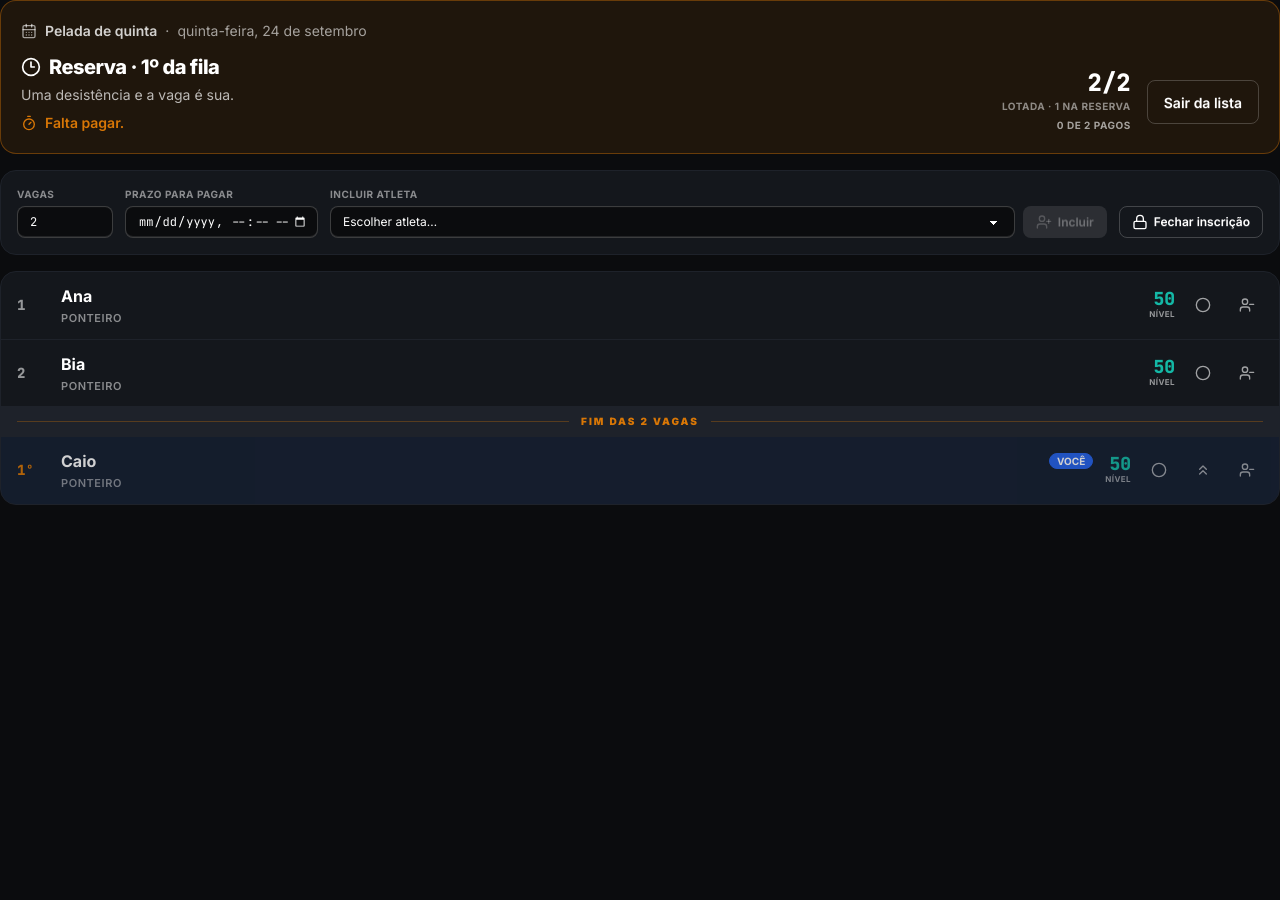
Scenario: RegistrationBoardView › desistir do fechamento não mexe na lista
The image size is (1280, 900).
Click the button "Fechar inscrição": coordinates (1191, 222) [1119,206,1263,238]
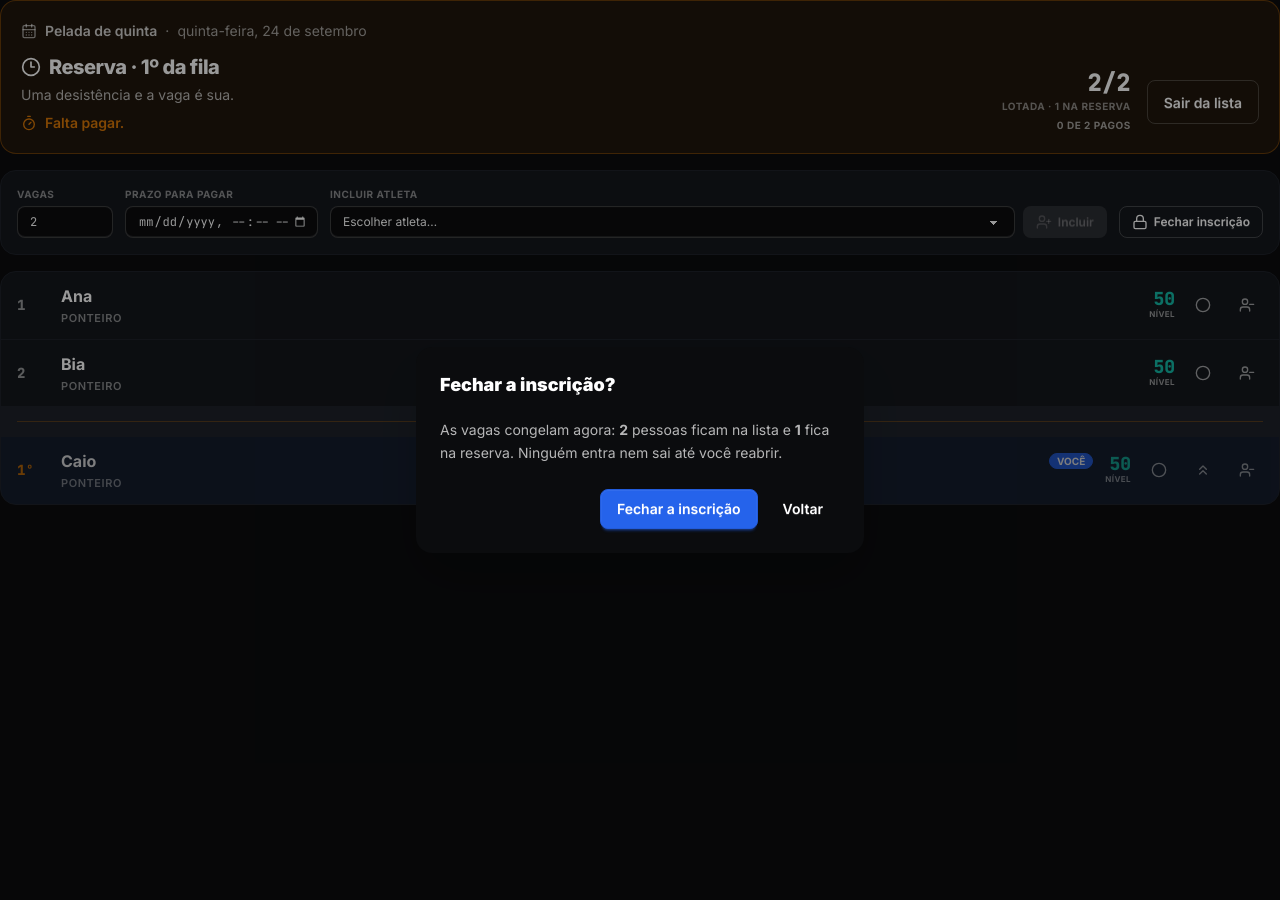
Click the button "Voltar": coordinates (803, 509) [766,489,840,529]
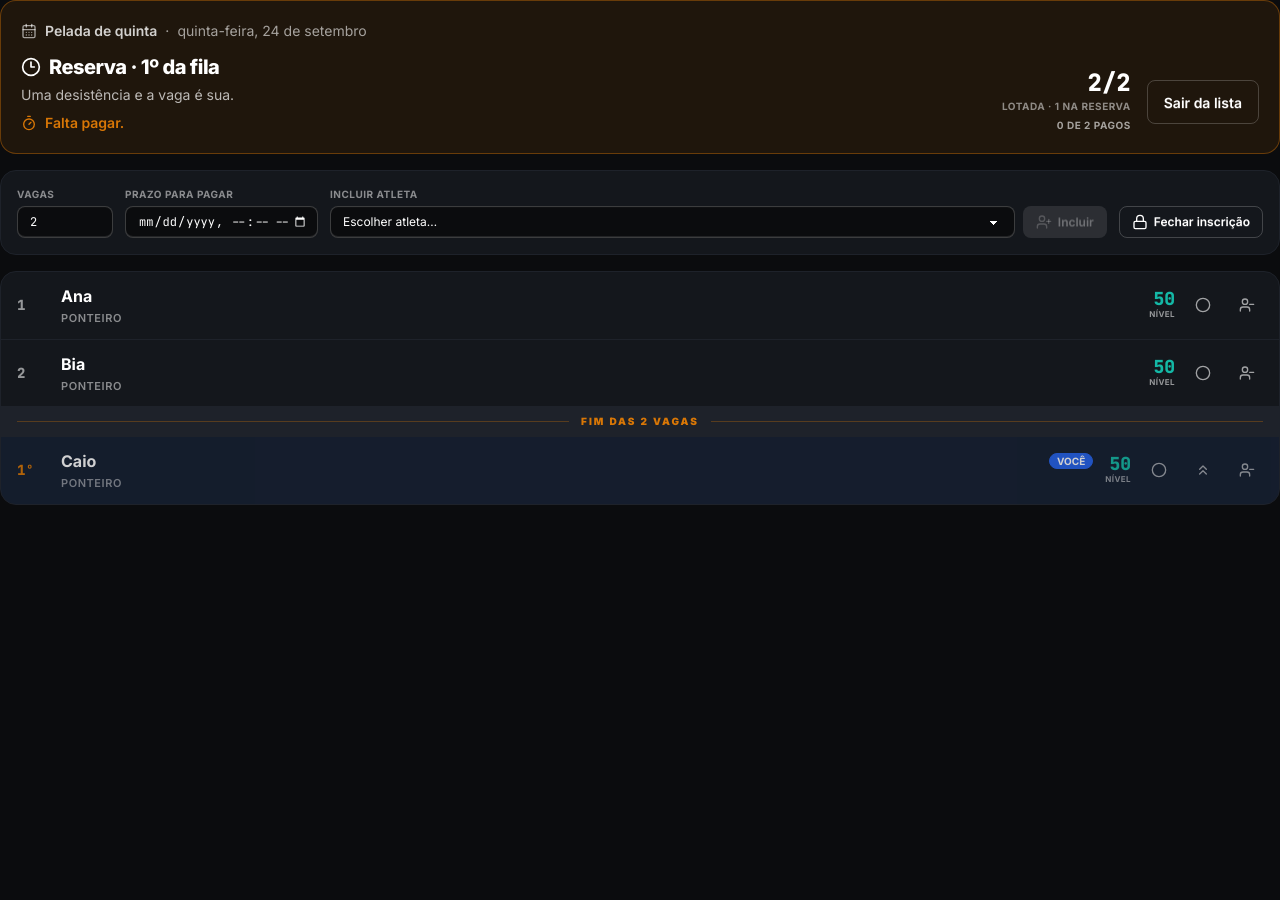
expect the dialog is gone: met
